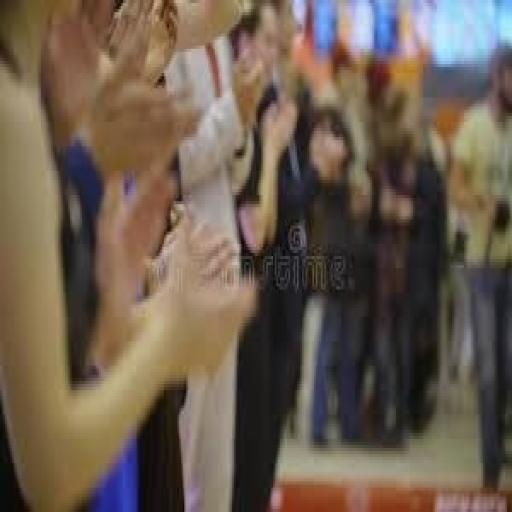clapping: (0, 0, 263, 509), (367, 82, 447, 451), (296, 104, 370, 451)
